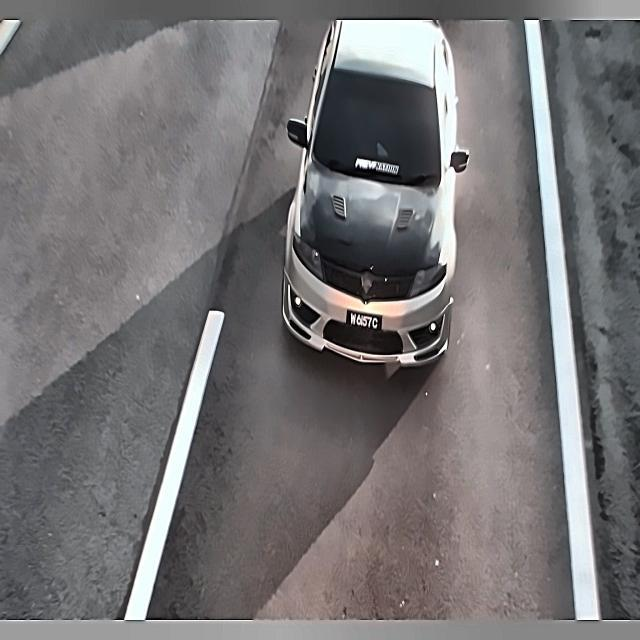car: (341, 305, 387, 336)
